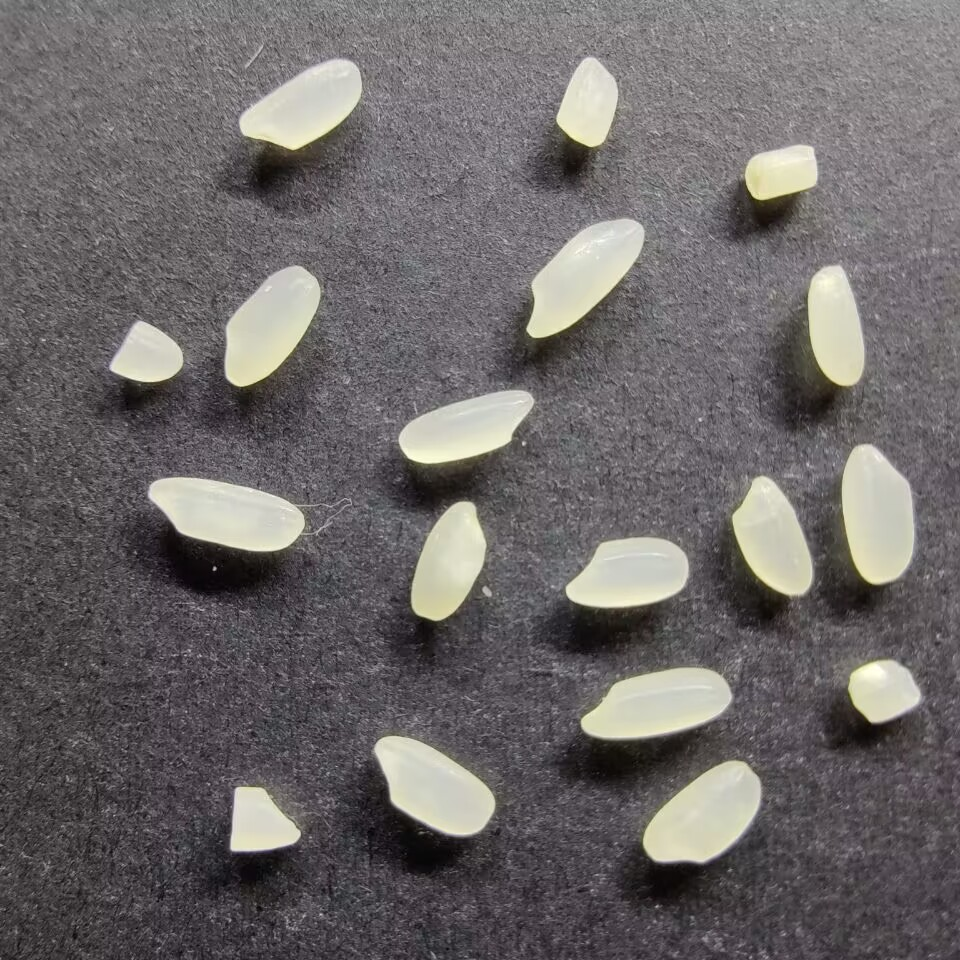broken: (552, 55, 619, 148), (847, 655, 921, 727), (225, 784, 302, 853), (105, 319, 186, 383), (743, 140, 819, 201)
rice: (523, 216, 648, 339), (641, 758, 764, 867), (372, 734, 497, 837), (221, 263, 322, 388), (237, 56, 363, 152), (579, 665, 732, 744), (145, 476, 304, 552), (839, 441, 917, 587), (398, 386, 536, 464), (730, 475, 816, 596), (408, 498, 488, 622), (564, 536, 691, 608), (806, 262, 866, 388)
